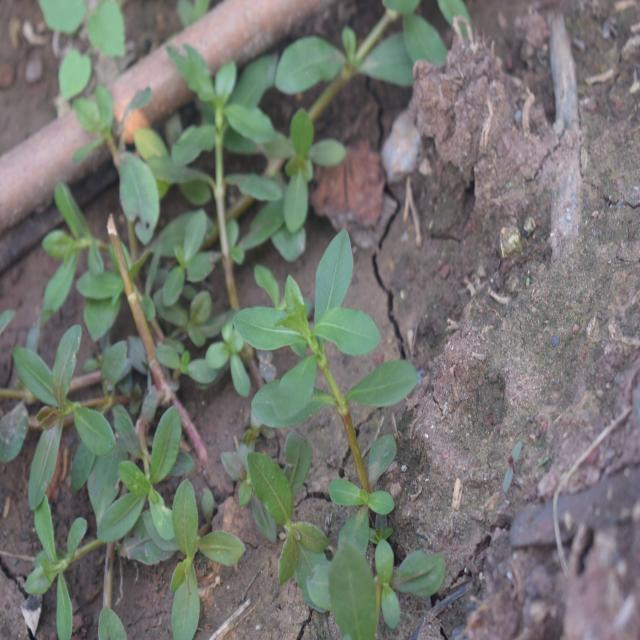Alligatorweed: (222, 227, 394, 508), (136, 30, 308, 234), (89, 405, 246, 619), (8, 311, 130, 503)
